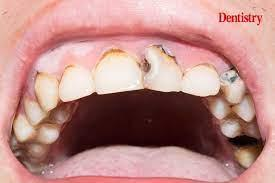Caries: (225, 130, 262, 159), (218, 65, 247, 96), (135, 55, 159, 77)
